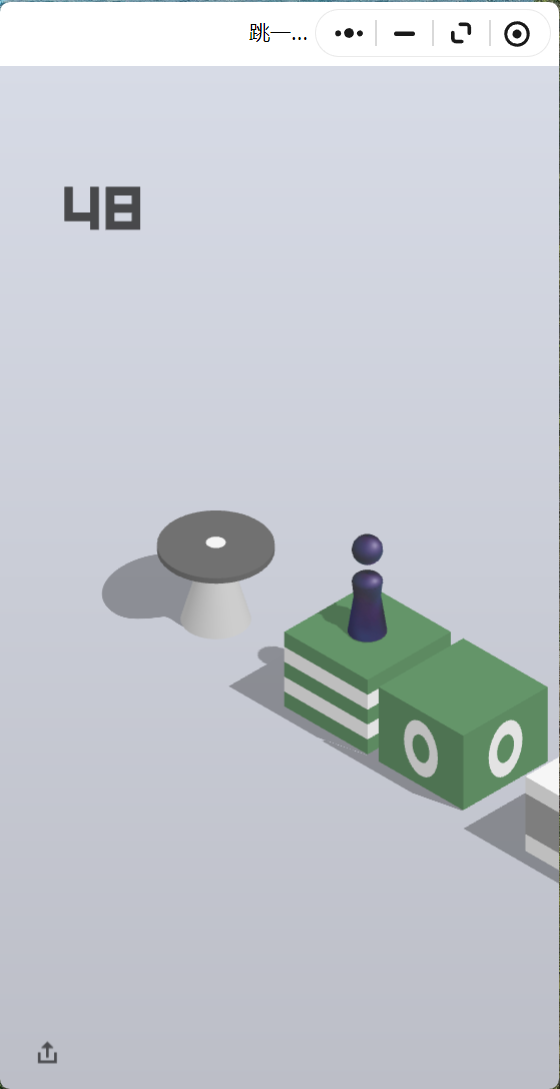piece: (352, 534, 382, 638)
target: (157, 510, 275, 578)
